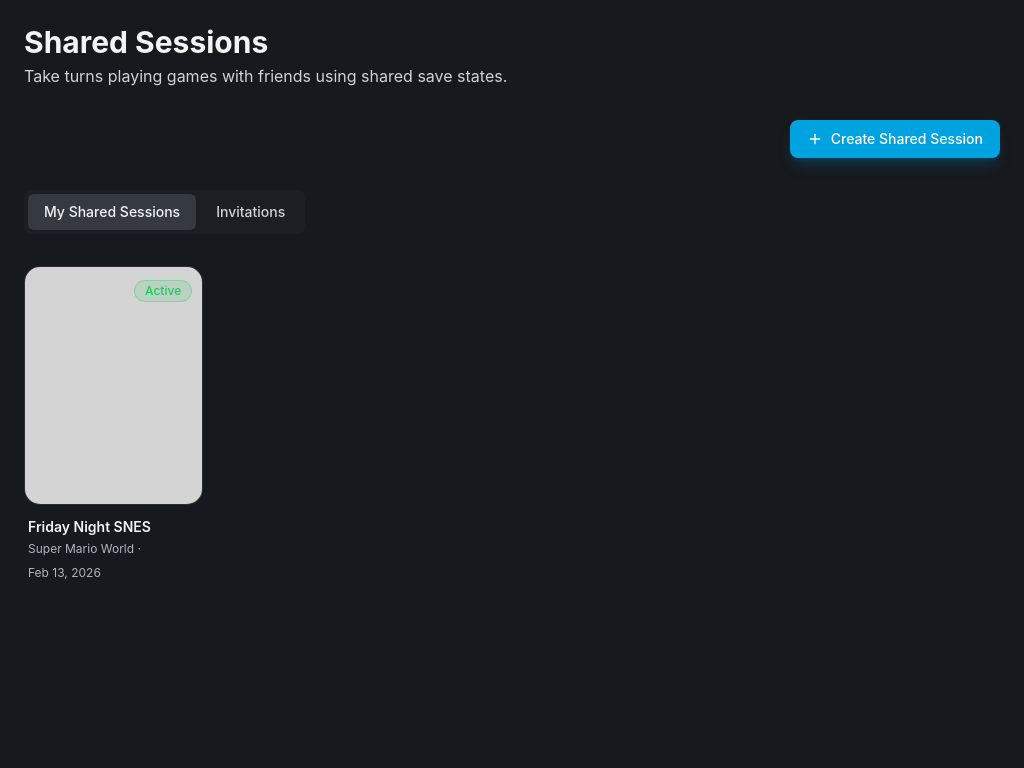
it: SharedSessionsPage › shows empty state when no invitations
Click the tab "Invitations" at (251, 212), box [200,194,301,230]
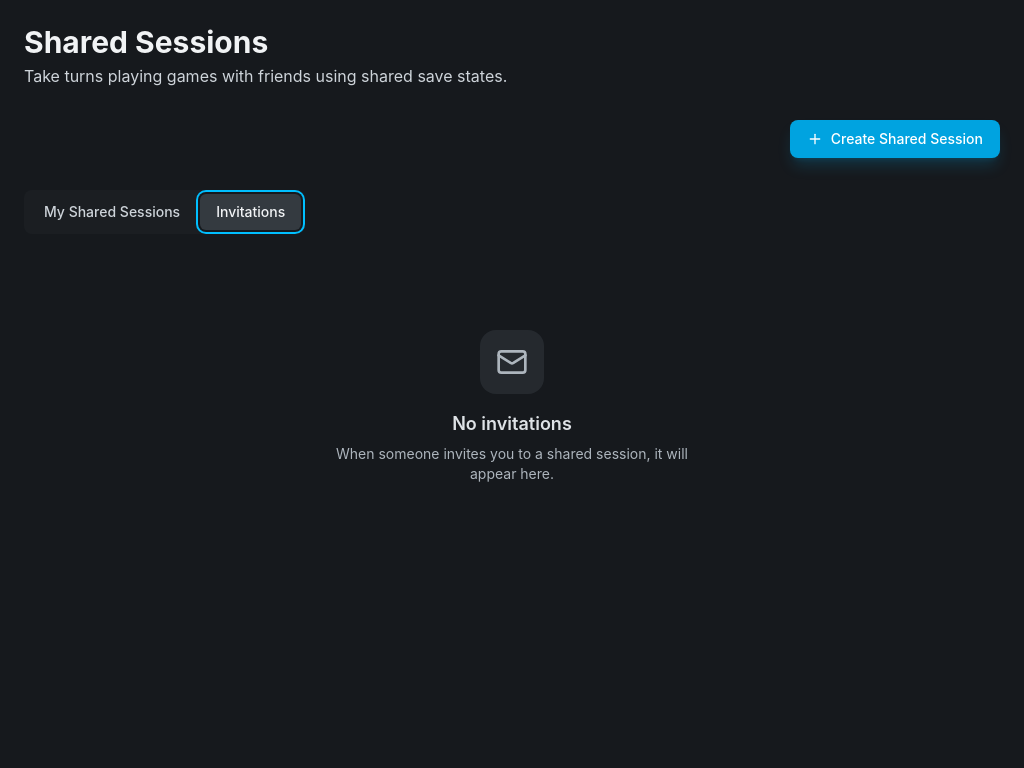
Expected: the heading "No invitations" is shown, [452,410,572,438]
